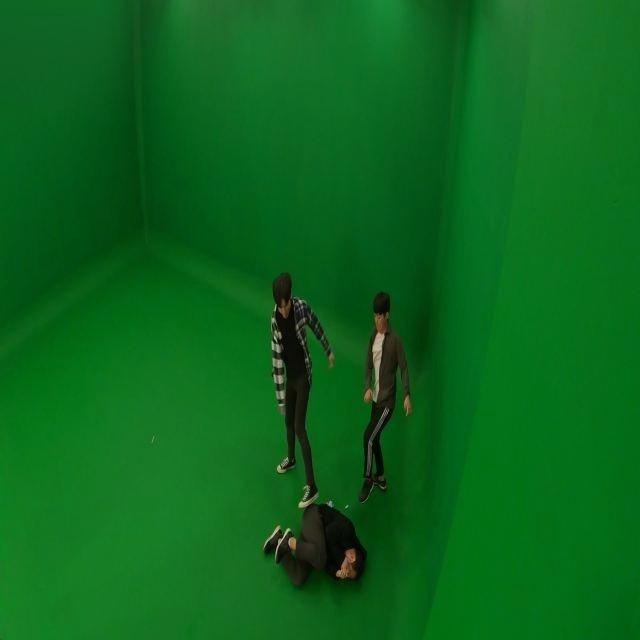fight: (270, 270, 412, 588)
